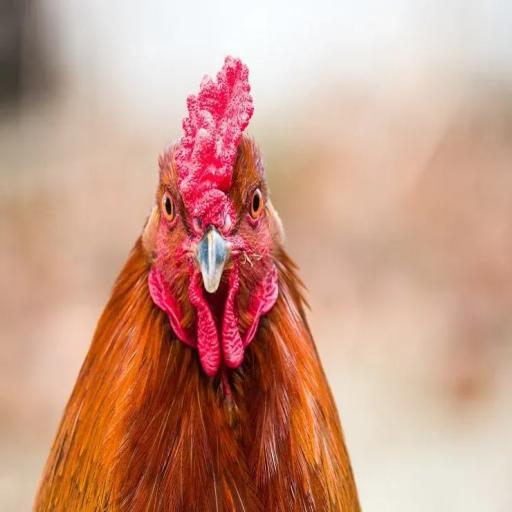healthy: (146, 56, 279, 358)
